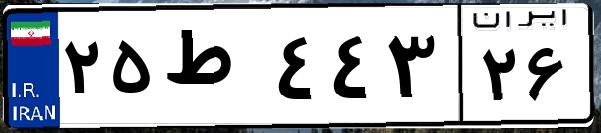2: (57, 26, 110, 100), (475, 38, 525, 113)
3: (385, 28, 445, 110)
4: (270, 28, 330, 110), (330, 28, 385, 110)
5: (110, 28, 158, 98)
6: (525, 38, 570, 115)
ط: (158, 20, 270, 120)
